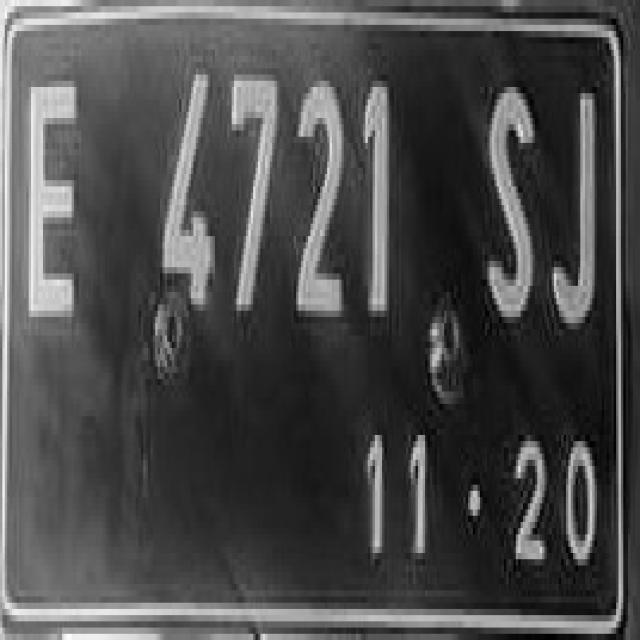license-plat: (9, 6, 626, 640)
